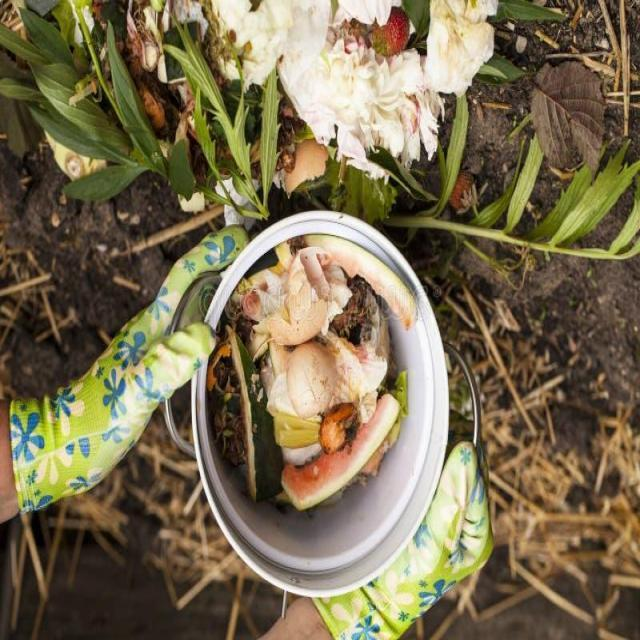Garbage: (205, 232, 417, 525)
